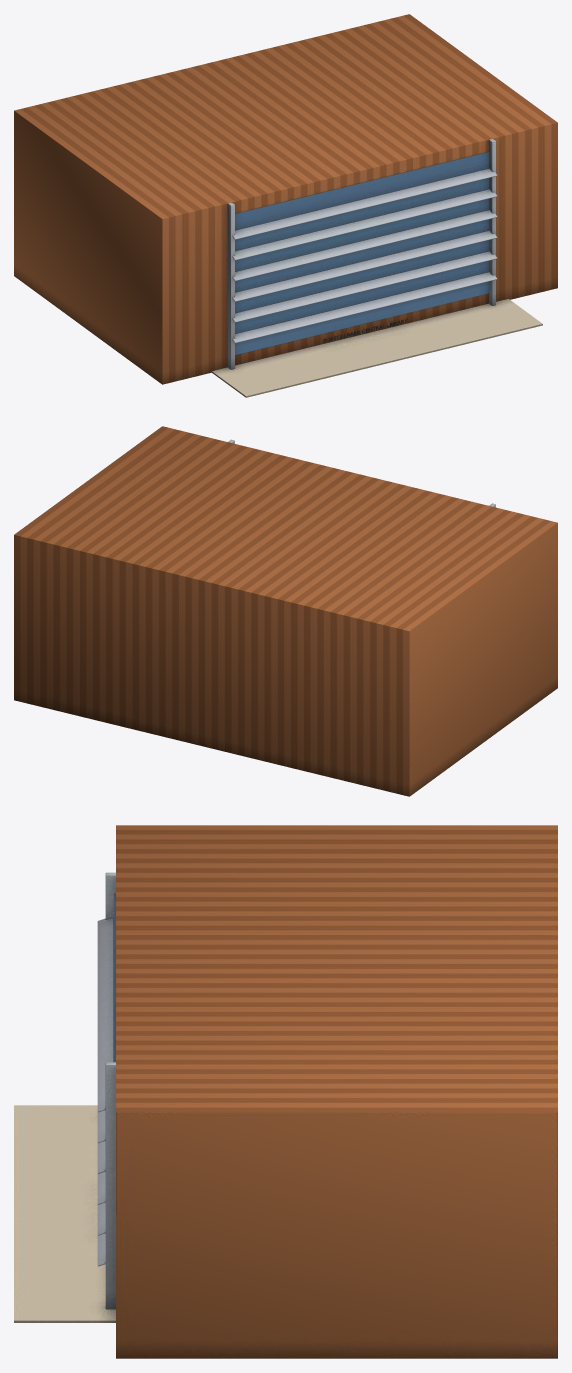
The model's file is biblioteca_barr.glb.
The picture shows the model from 3 angles, top to bottom: view 1: azimuth 30°, elevation 25°; view 2: azimuth 150°, elevation 25°; view 3: azimuth 270°, elevation 25°; orthographic projection. The views are drawn at different scales.
Parts seen in each view (by area): view 1: biblioteca_barr; view 2: biblioteca_barr; view 3: biblioteca_barr.
Part boxes in pixels (x1,y1,x2,y2): biblioteca_barr: [14, 14, 557, 397]; biblioteca_barr: [14, 426, 557, 796]; biblioteca_barr: [14, 825, 557, 1358].
Size of the model in its own units: 40 by 16 by 32.
Materials: 1 (1 with a texture image).
